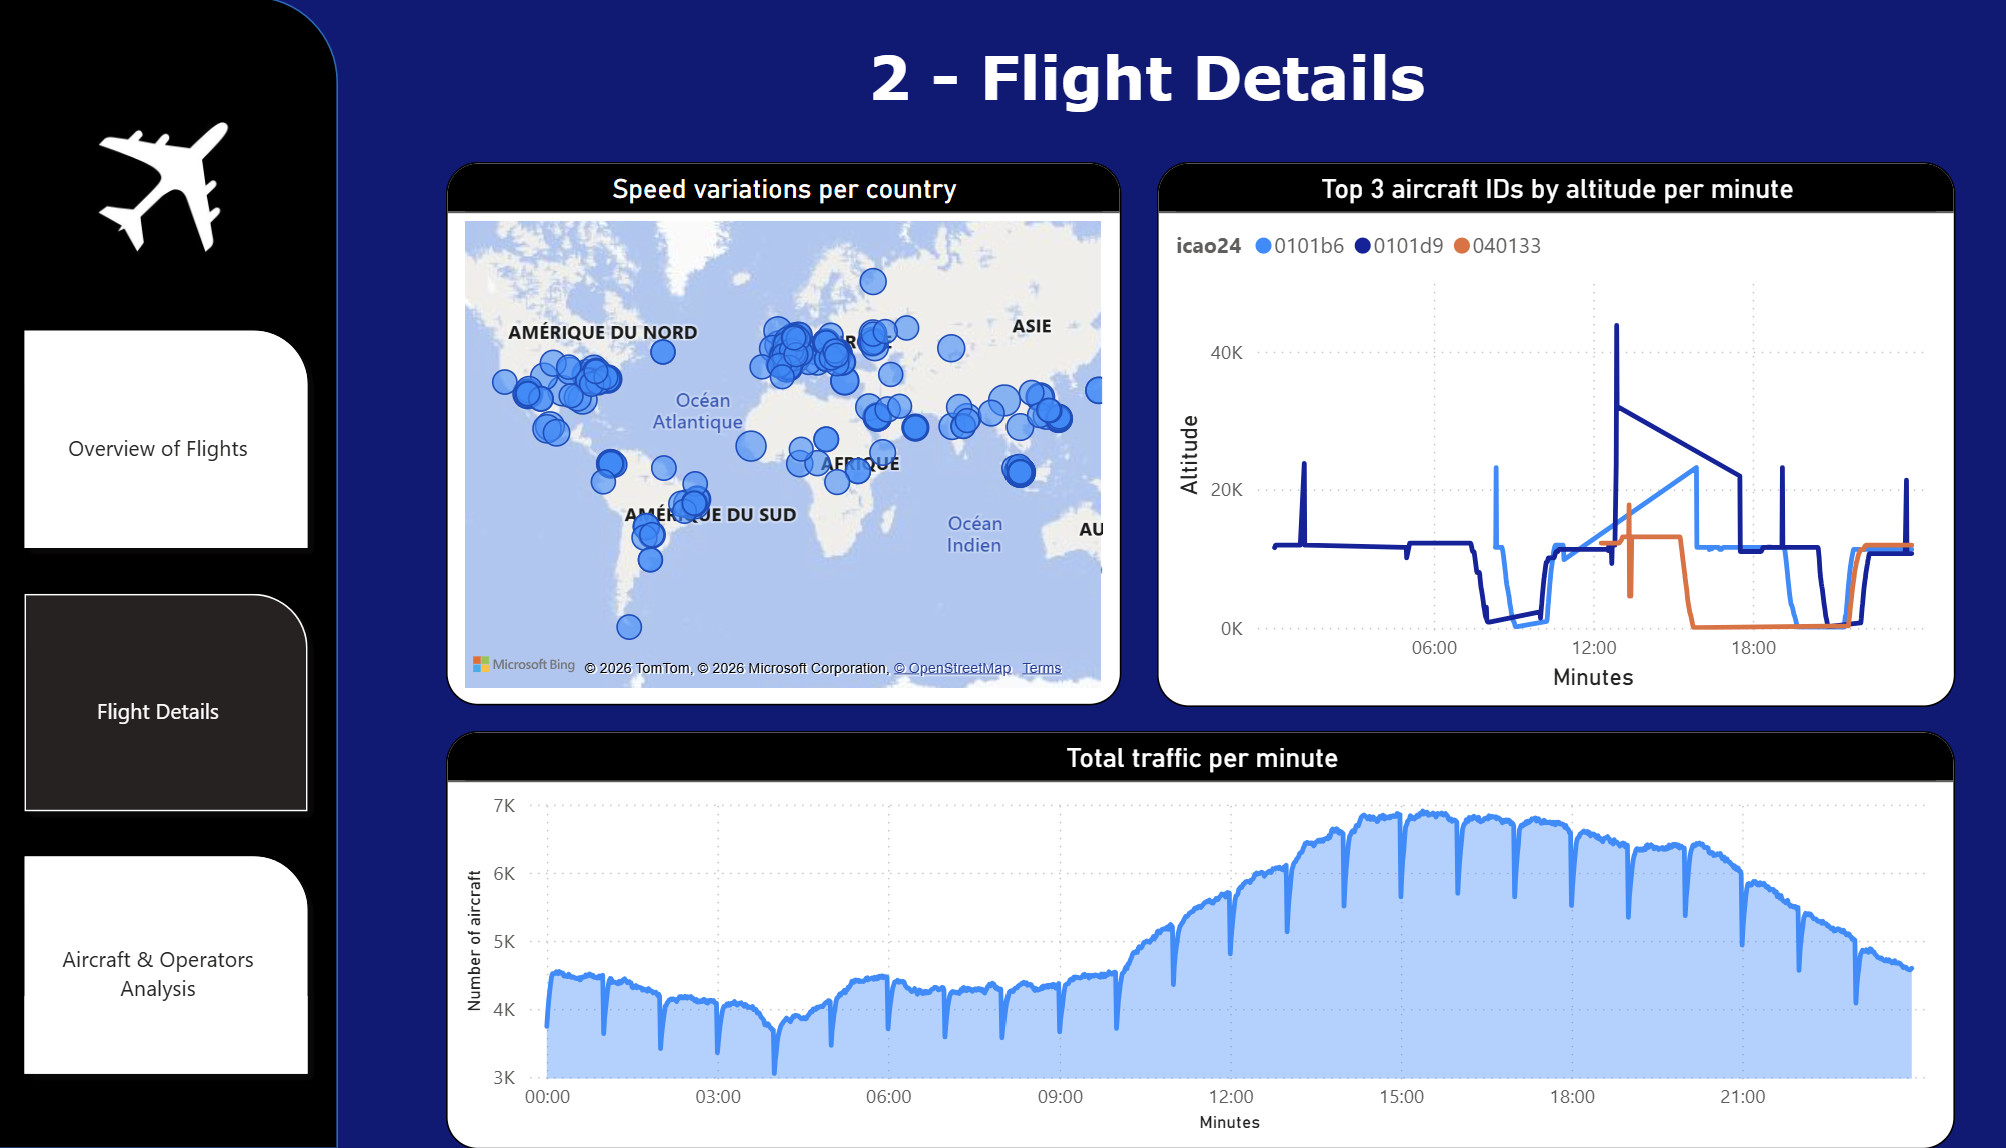

Layout of this report page (visuals, bound fields, positions):
{"tool":"powerbi","page":{"name":"Flight Details","canvas":[1280,720],"ordinal":1},"visuals":[{"type":"map","title":"Speed variations per country","fields":{"Category":["mart_flight_details.icao24"],"Size":["Sum(mart_flight_details.avg_velocity_kmh)"]},"box":[296.2,103.8,421.2,338.8],"z":0},{"type":"lineChart","title":"Top 3 aircraft IDs by altitude per minute","fields":{"Category":["mart_flight_details.minute"],"Series":["mart_flight_details.icao24"],"Y":["Sum(mart_flight_details.avg_baro_altitude)"]},"box":[740,103.8,498.8,340],"z":1000},{"type":"areaChart","title":"Total traffic per minute","fields":{"Category":["mart_flight_details.minute"],"Y":["CountNonNull(mart_flight_details.icao24)"]},"box":[296.2,458.8,942.5,261.2],"z":2000},{"type":"shape","box":[13.8,0,215,720],"z":3000},{"type":"image","box":[40,37.5,161.2,161.2],"z":4000},{"type":"pageNavigator","box":[23.8,200,195,483.8],"z":5000},{"type":"textbox","box":[555,22.5,370,57.5],"z":6000}]}

Visuals, with their boxes on the page's 1280x720 design canvas (x1, y1, x2, y2). These are canvas units, not pixel positions in the 2006x1148 screenshot, which may show the page scaled, cropped or inside an application window:
"Speed variations per country" map: select_region(296, 104, 717, 443)
"Top 3 aircraft IDs by altitude per minute" lineChart: select_region(740, 104, 1239, 444)
"Total traffic per minute" areaChart: select_region(296, 459, 1239, 720)
shape: select_region(14, 0, 229, 720)
image: select_region(40, 38, 201, 199)
pageNavigator: select_region(24, 200, 219, 684)
textbox: select_region(555, 22, 925, 80)
